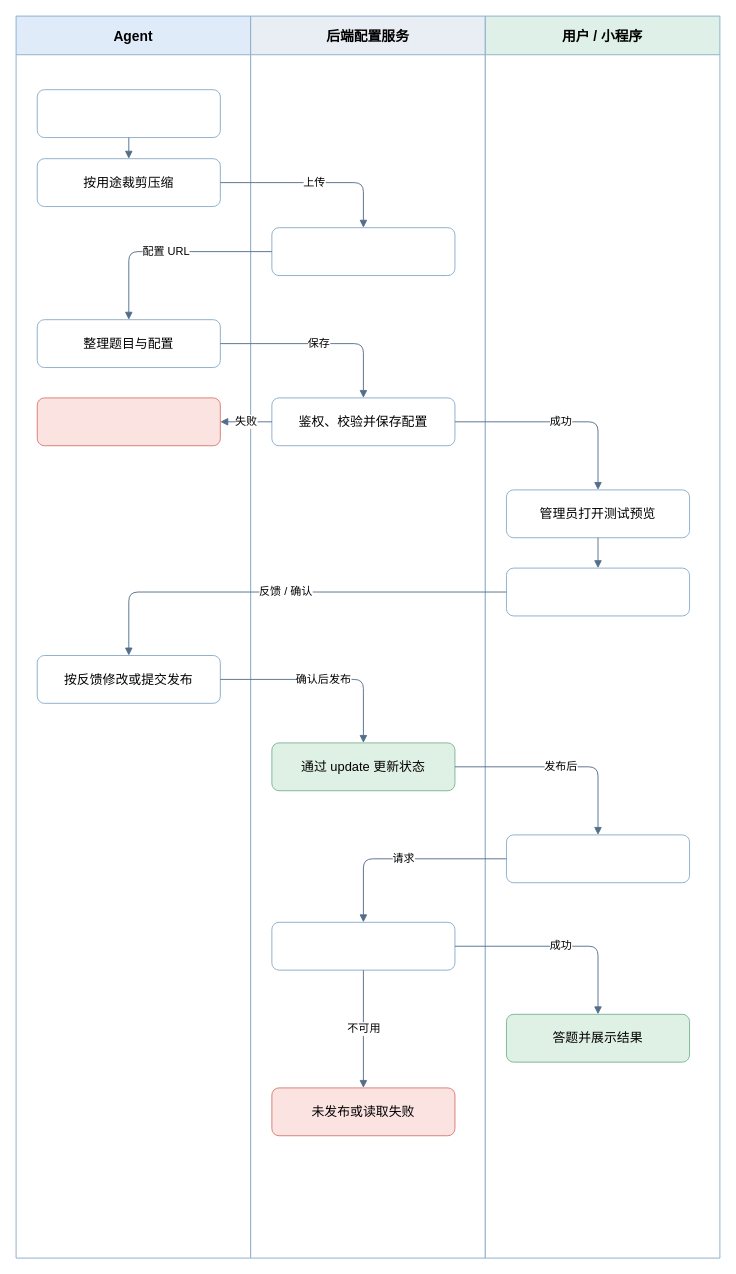
Some shapes in this 736 by 1274 pixel diagram are drawn without their labels. The centre of each missing label's shape, as x and y in pixels:
"上传图片并返回 URL" goes at [363,251].
"按类型筛选，已发布可进入" goes at [598,858].
"权限或校验失败，修正后重试" goes at [128,421].
"生成或准备图片" goes at [128,113].
"试答并反馈 / 确认" goes at [598,591].
"读取测试状态和配置" goes at [363,945].
